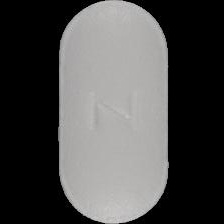0615-7958: (0, 0, 224, 224)
